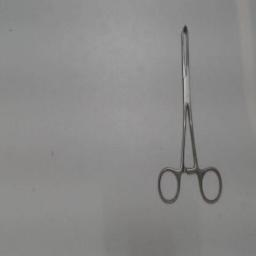Allis Tissue Forceps: (154, 18, 226, 210)
